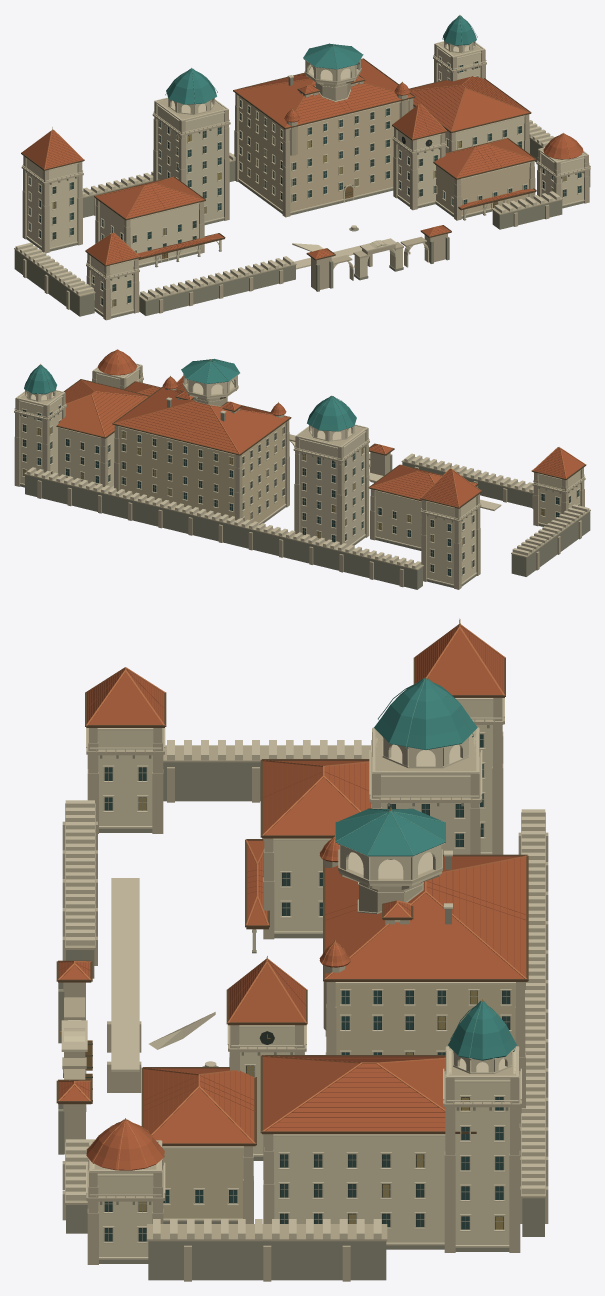
The model's file is citadel-hero.glb.
The picture shows the model from 3 angles, top to bottom: view 1: azimuth 30°, elevation 25°; view 2: azimuth 150°, elevation 25°; view 3: azimuth 270°, elevation 25°; orthographic projection. The views are drawn at different scales.
Parts seen in each view (by area): view 1: citadel.hero.material.stone_citadel_light, citadel.hero.material.terracotta_citadel, citadel.hero.material.stone_citadel, citadel.hero.material.plaster_citadel_warm, citadel.hero.material.plaster_citadel, citadel.hero.material.stone_citadel_shadow, citadel.hero.material.terracotta_citadel_aged, citadel.hero.material.teal_citadel, citadel.hero.material.window_citadel, citadel.hero.material.timber_citadel, citadel.hero.material.terracotta_citadel_light, citadel.hero.material.recess_citadel (+1 smaller); view 2: citadel.hero.material.stone_citadel_light, citadel.hero.material.terracotta_citadel, citadel.hero.material.stone_citadel, citadel.hero.material.stone_citadel_shadow, citadel.hero.material.plaster_citadel, citadel.hero.material.plaster_citadel_warm, citadel.hero.material.teal_citadel, citadel.hero.material.terracotta_citadel_aged, citadel.hero.material.window_citadel, citadel.hero.material.timber_citadel, citadel.hero.material.terracotta_citadel_light, citadel.hero.material.recess_citadel (+2 smaller); view 3: citadel.hero.material.terracotta_citadel, citadel.hero.material.stone_citadel_light, citadel.hero.material.plaster_citadel, citadel.hero.material.stone_citadel, citadel.hero.material.stone_citadel_shadow, citadel.hero.material.plaster_citadel_warm, citadel.hero.material.teal_citadel, citadel.hero.material.terracotta_citadel_aged, citadel.hero.material.timber_citadel, citadel.hero.material.terracotta_citadel_light, citadel.hero.material.window_citadel, citadel.hero.material.recess_citadel (+2 smaller).
Part boxes in pixels (box(x1,y1,x2,y2)): citadel.hero.material.stone_citadel_light: box(15, 39, 589, 316); citadel.hero.material.terracotta_citadel: box(23, 59, 583, 264); citadel.hero.material.stone_citadel: box(14, 42, 590, 320); citadel.hero.material.plaster_citadel_warm: box(238, 96, 529, 215); citadel.hero.material.plaster_citadel: box(26, 43, 585, 314); citadel.hero.material.stone_citadel_shadow: box(14, 44, 590, 318); citadel.hero.material.terracotta_citadel_aged: box(46, 73, 530, 263); citadel.hero.material.teal_citadel: box(166, 15, 476, 104); citadel.hero.material.window_citadel: box(29, 57, 581, 305); citadel.hero.material.timber_citadel: box(21, 58, 536, 266); citadel.hero.material.terracotta_citadel_light: box(21, 58, 582, 265); citadel.hero.material.recess_citadel: box(53, 61, 578, 305); citadel.hero.material.stone_citadel_light: box(14, 363, 589, 585); citadel.hero.material.terracotta_citadel: box(57, 350, 584, 507); citadel.hero.material.stone_citadel: box(14, 365, 590, 589); citadel.hero.material.stone_citadel_shadow: box(20, 394, 590, 589); citadel.hero.material.plaster_citadel: box(19, 365, 580, 584); citadel.hero.material.plaster_citadel_warm: box(119, 423, 285, 523); citadel.hero.material.teal_citadel: box(24, 359, 356, 431); citadel.hero.material.terracotta_citadel_aged: box(65, 378, 564, 505); citadel.hero.material.window_citadel: box(23, 406, 578, 575); citadel.hero.material.timber_citadel: box(56, 379, 586, 508); citadel.hero.material.terracotta_citadel_light: box(66, 349, 585, 507); citadel.hero.material.recess_citadel: box(23, 406, 570, 573); citadel.hero.material.terracotta_citadel: box(58, 626, 526, 1170); citadel.hero.material.stone_citadel_light: box(61, 698, 545, 1259); citadel.hero.material.plaster_citadel: box(92, 700, 515, 1256); citadel.hero.material.stone_citadel: box(62, 698, 548, 1281); citadel.hero.material.stone_citadel_shadow: box(58, 725, 544, 1280); citadel.hero.material.plaster_citadel_warm: box(163, 984, 515, 1218); citadel.hero.material.teal_citadel: box(335, 678, 516, 1060); citadel.hero.material.terracotta_citadel_aged: box(60, 626, 520, 1137); citadel.hero.material.timber_citadel: box(56, 657, 528, 1146); citadel.hero.material.terracotta_citadel_light: box(57, 624, 527, 1170); citadel.hero.material.window_citadel: box(105, 734, 509, 1241); citadel.hero.material.recess_citadel: box(104, 734, 510, 1241).
Size of the model in its own units: 207 by 62.4 by 86.76.
